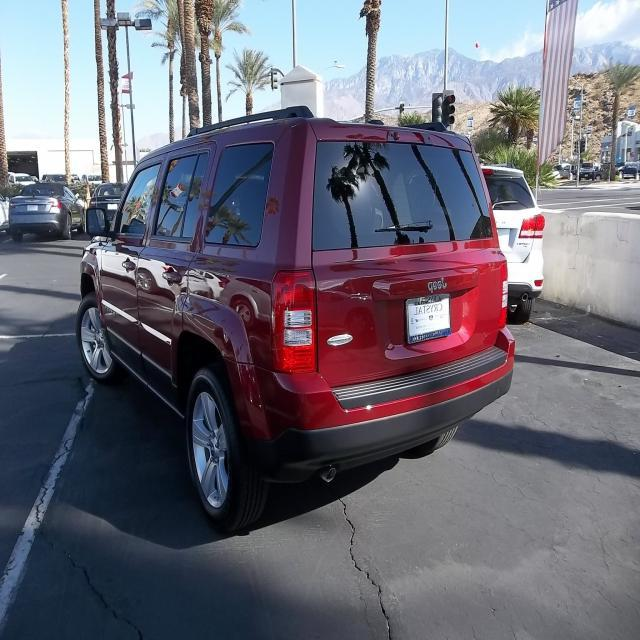Zeep: (72, 107, 510, 523)
